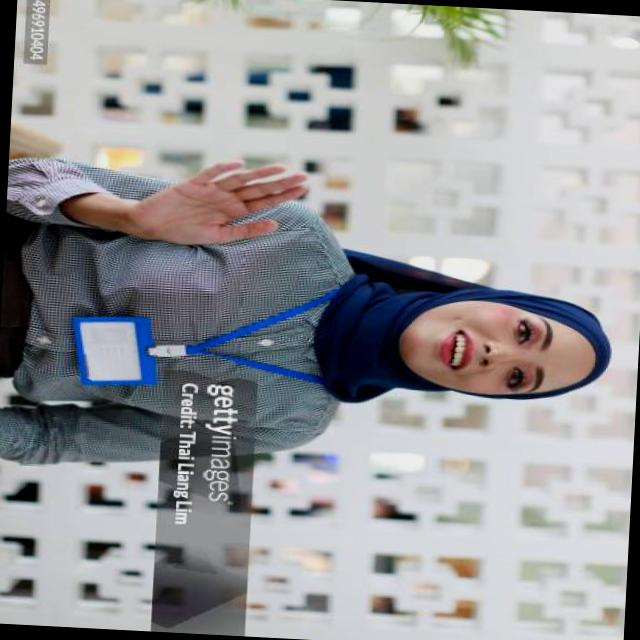Hand: (112, 152, 318, 255)
